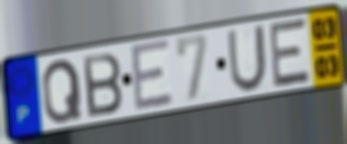7: (173, 30, 214, 106)
B: (81, 50, 125, 120)
E: (128, 37, 176, 116), (268, 16, 312, 91)
Q: (41, 56, 85, 127)
U: (225, 22, 268, 94)
